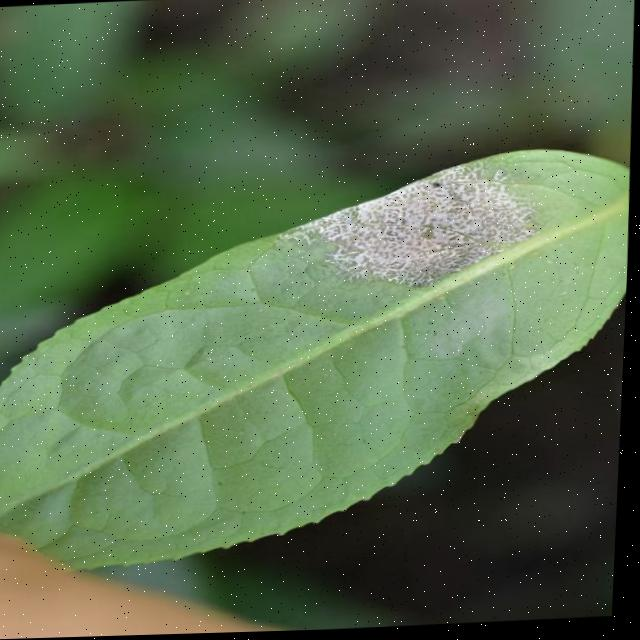Tea exobasidium blight: (287, 164, 543, 295)
